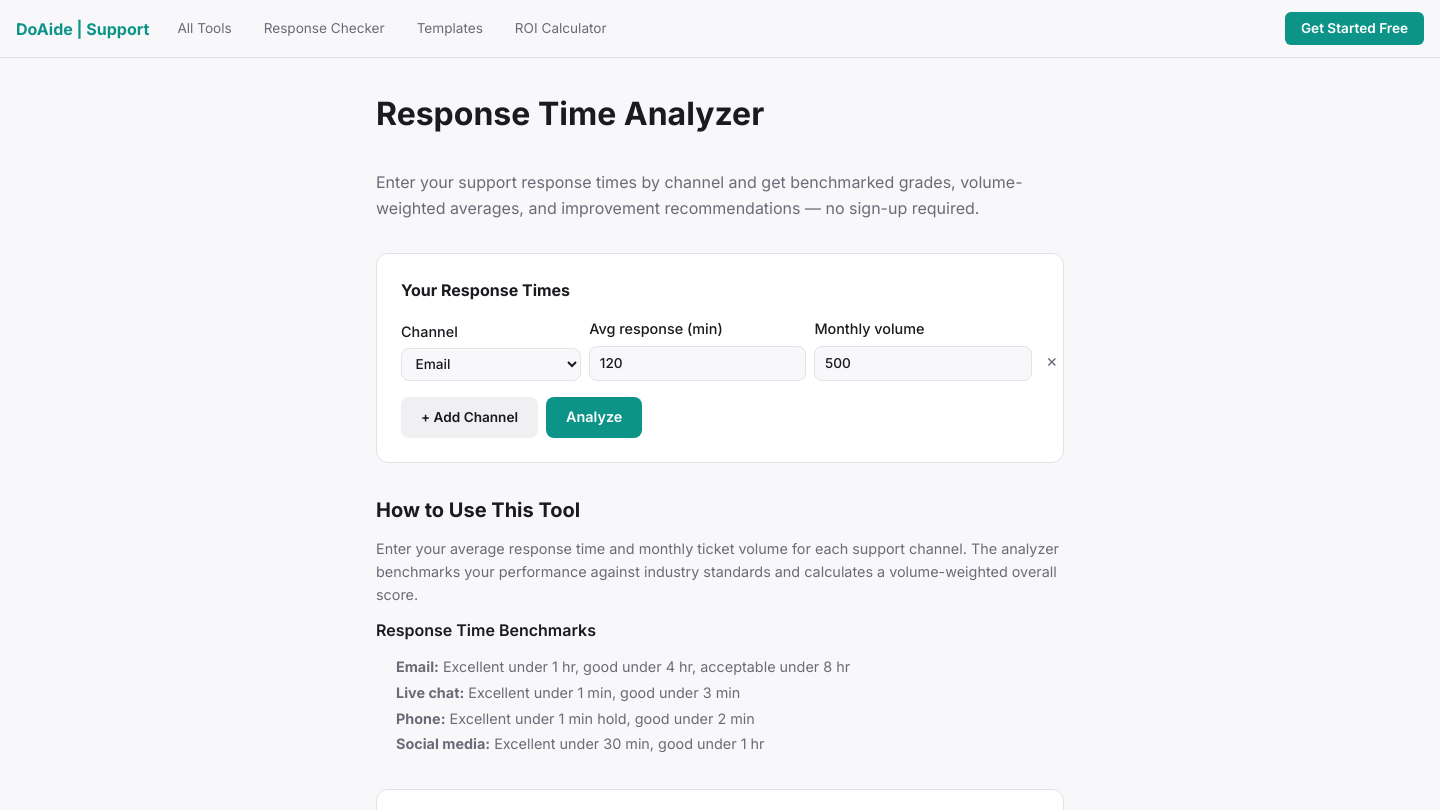
Test case: ResponseTimeAnalyzerPage › adds additional channels
Click the button "+ Add Channel" at (470, 417), box [401, 397, 538, 438]
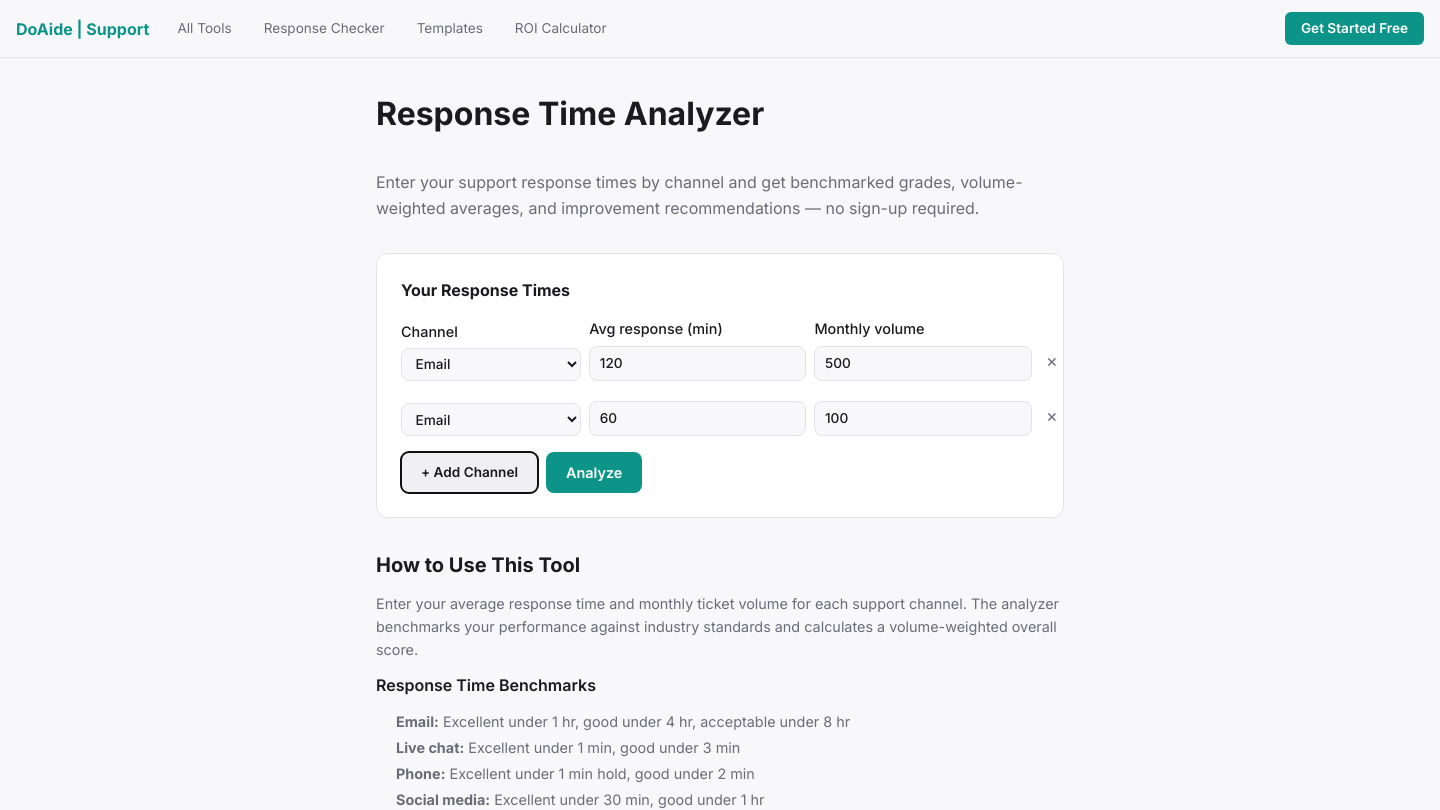
Expected: the number of buttons named "Remove channel" is 2, [1040, 342, 1064, 381]; [1040, 397, 1064, 436]
